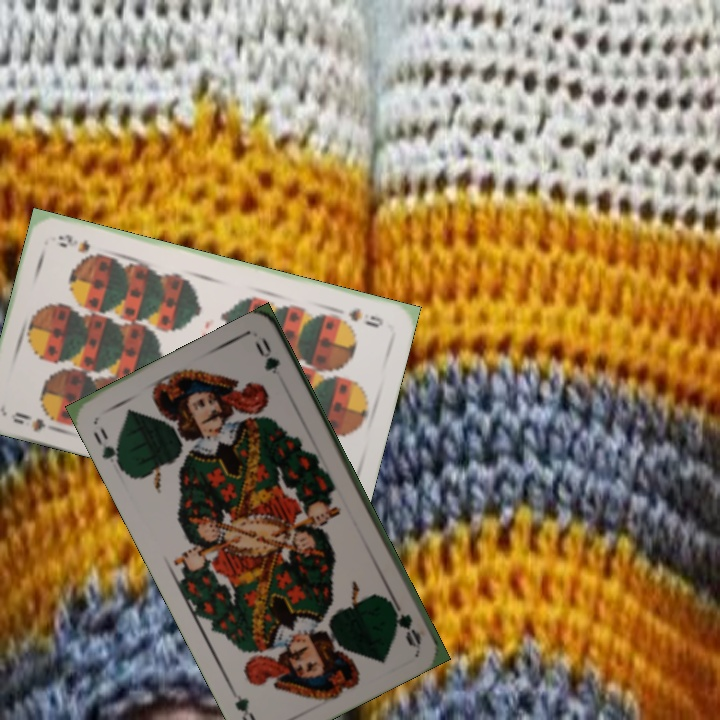GO: (382, 592, 424, 649), (89, 423, 125, 472)
S9: (8, 408, 63, 435), (344, 304, 386, 331)
